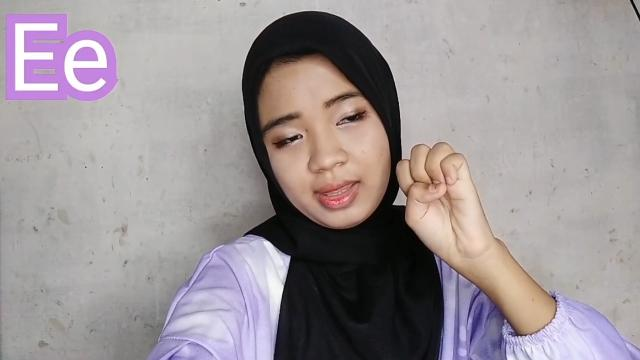E: (394, 138, 492, 270)
